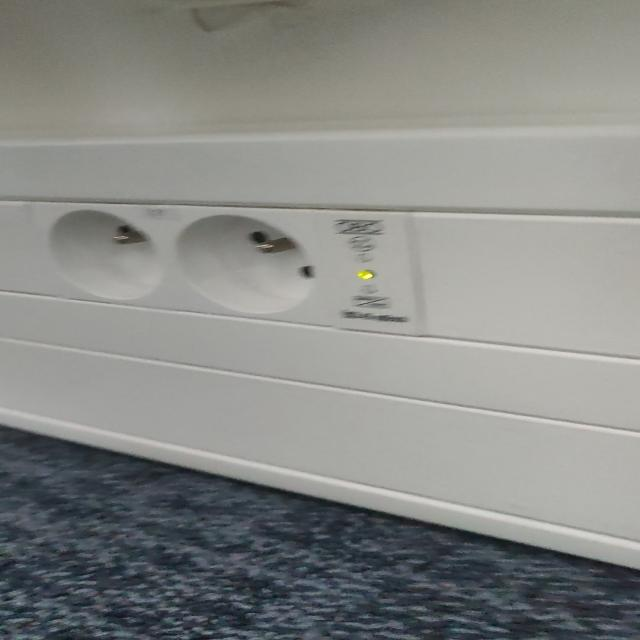house plug: (164, 207, 323, 323), (24, 203, 172, 310)
